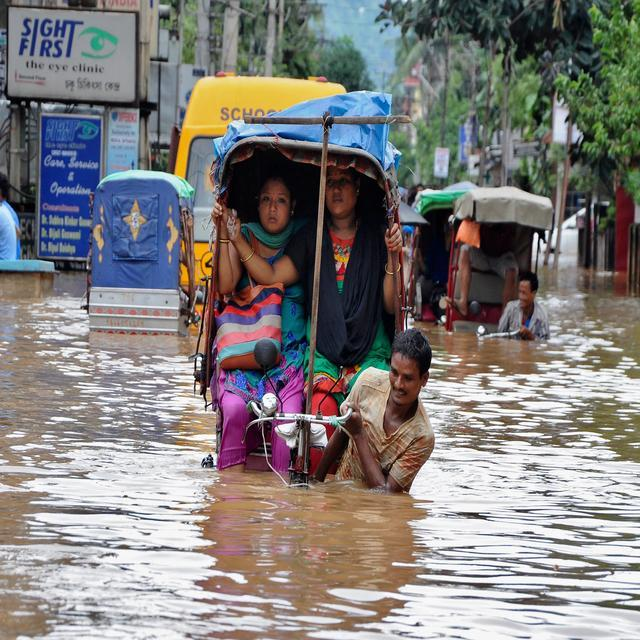Person-RiskLevel3: (206, 140, 440, 517), (457, 197, 553, 349)
